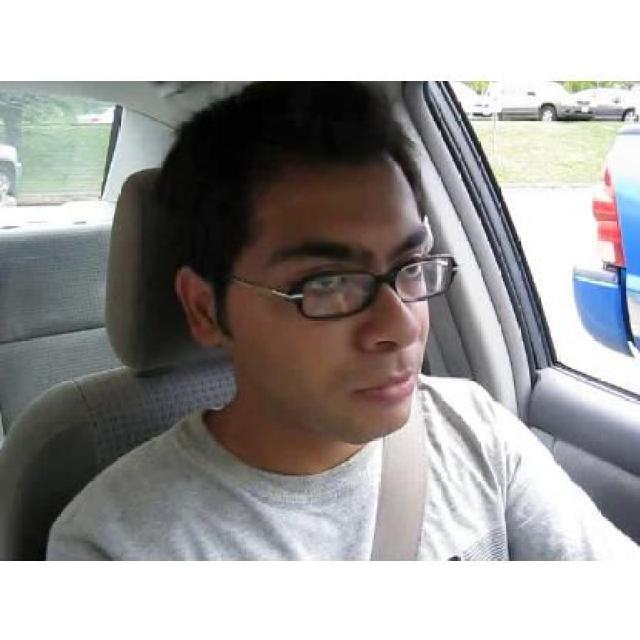attentif: (177, 82, 460, 444)
